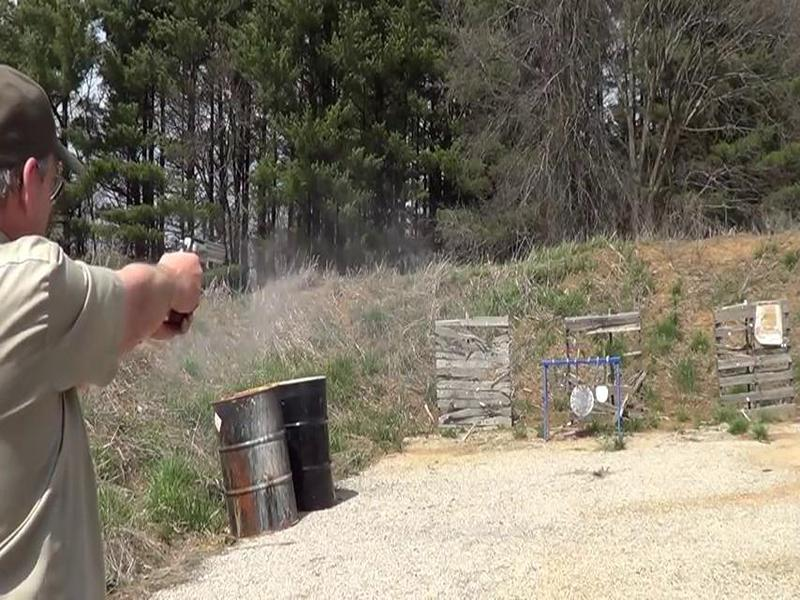Revolver: (154, 217, 240, 326)
